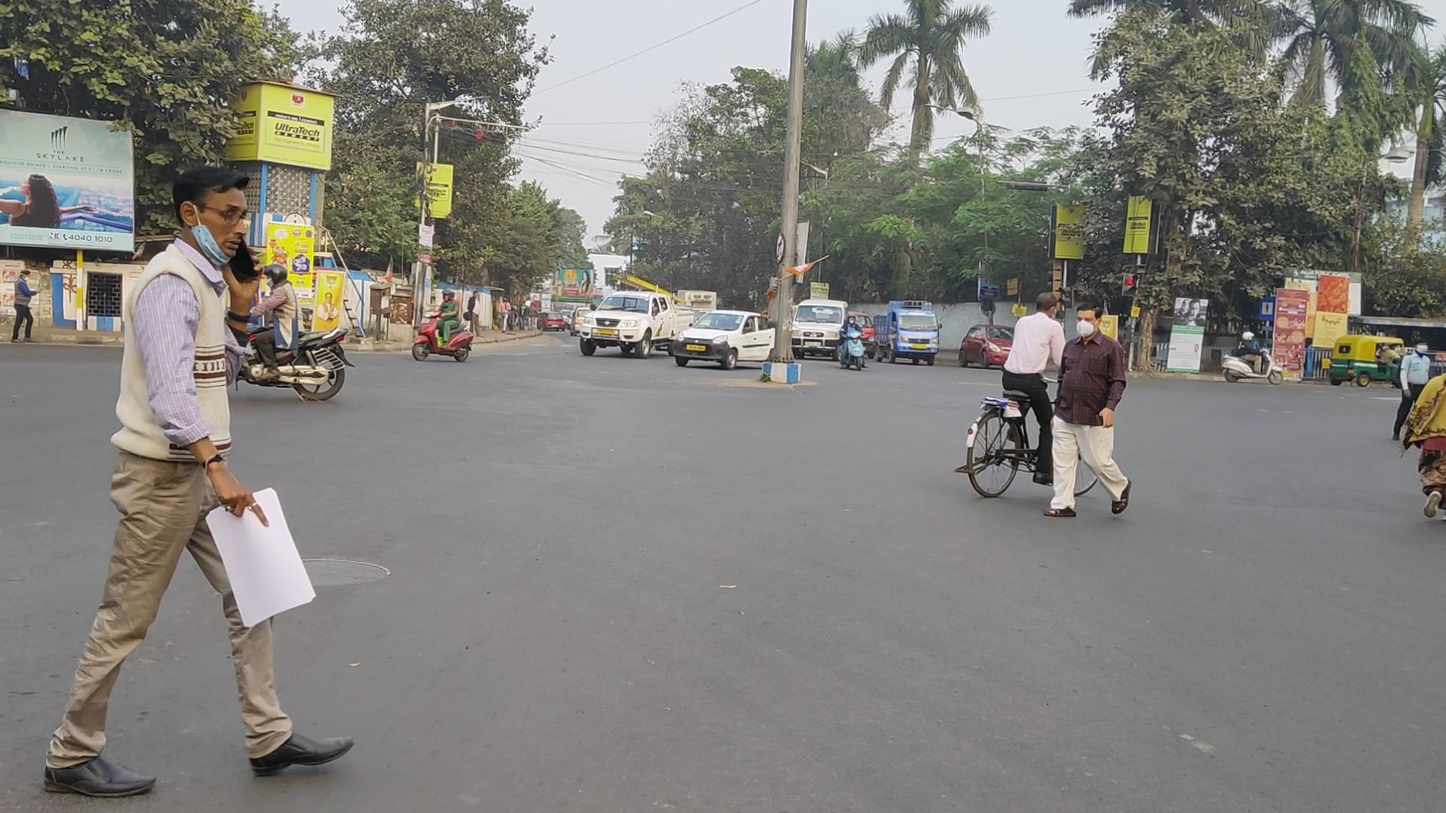Auto: (1328, 334, 1411, 388)
bike: (954, 293, 1108, 499), (207, 263, 356, 402), (412, 288, 474, 362), (1221, 330, 1284, 385), (837, 315, 867, 371)
car: (675, 309, 778, 370), (791, 298, 849, 361), (959, 324, 1027, 370)
van: (579, 291, 692, 361), (873, 298, 941, 365)
